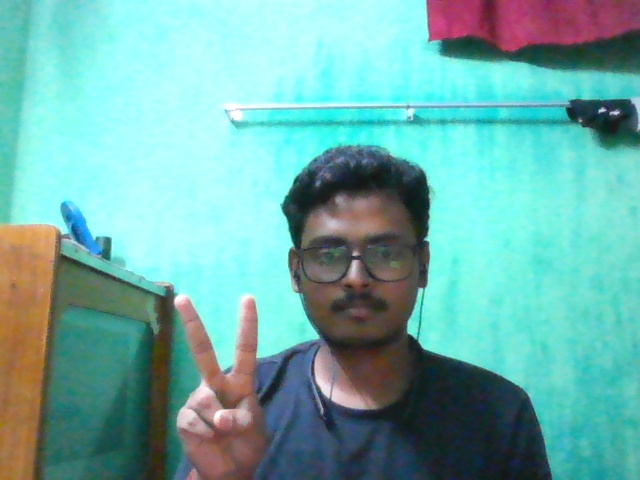LiveLong: (171, 290, 271, 480)
